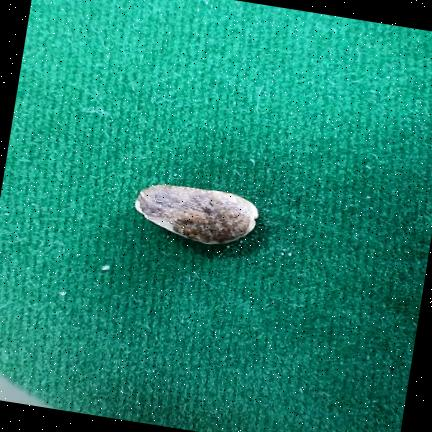shell: (135, 185, 258, 244)
